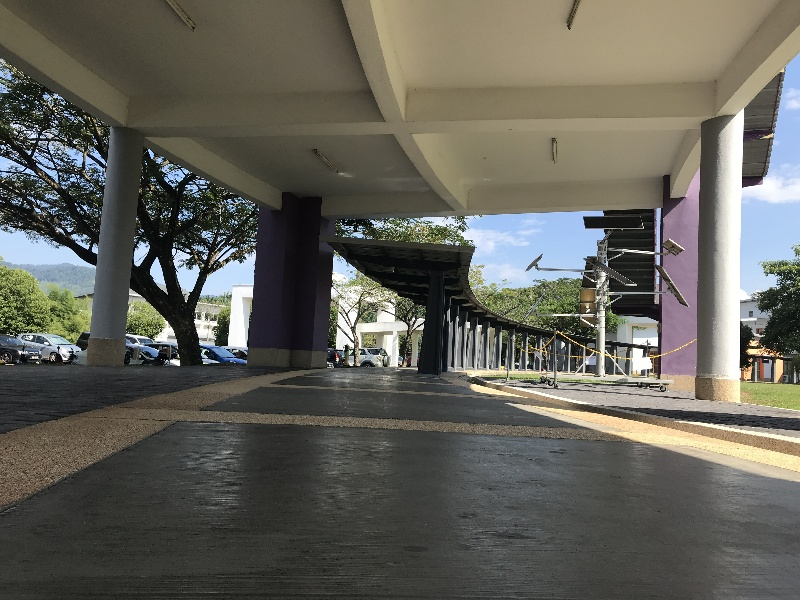pillar: (689, 106, 762, 416), (248, 192, 333, 372), (660, 169, 697, 405), (98, 120, 131, 367), (419, 268, 446, 392)
